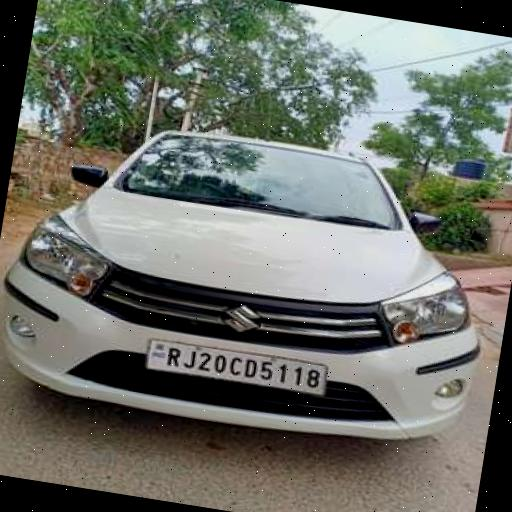license_plate`: (144, 335, 326, 394)
